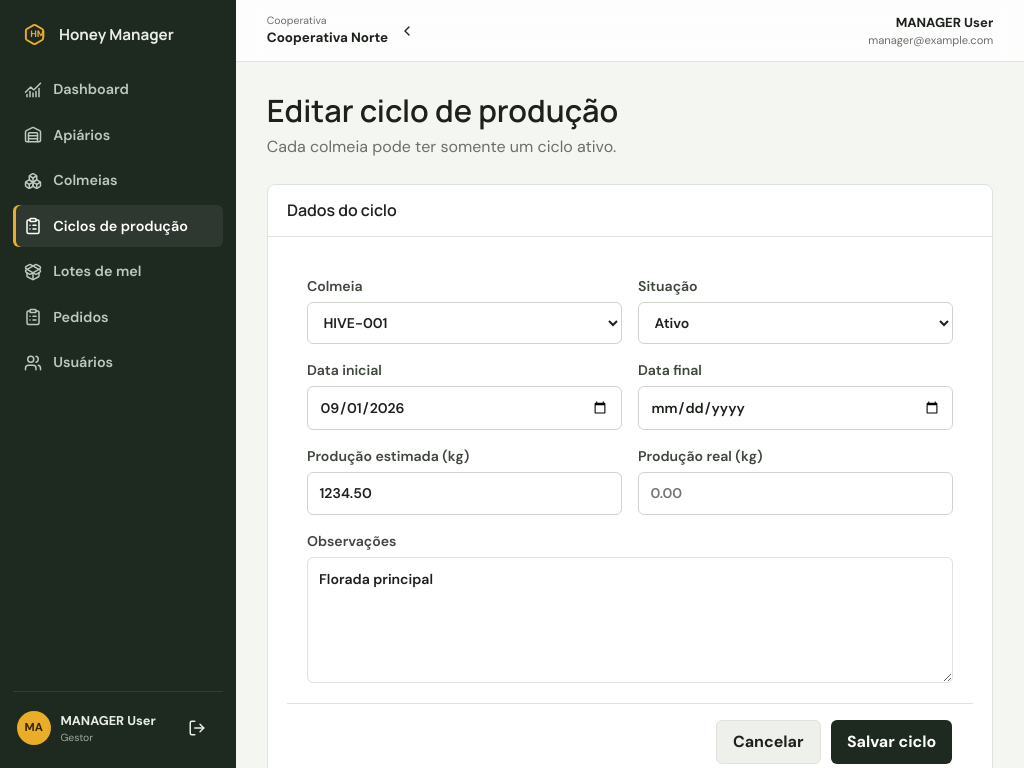
Test case: Production Cycle management › updates a completed cycle and keeps the returned detail cached
The image size is (1024, 768).
Select "Concluído" in the dropdown labelled "Situação" at (796, 323), box [638,302,953,344]
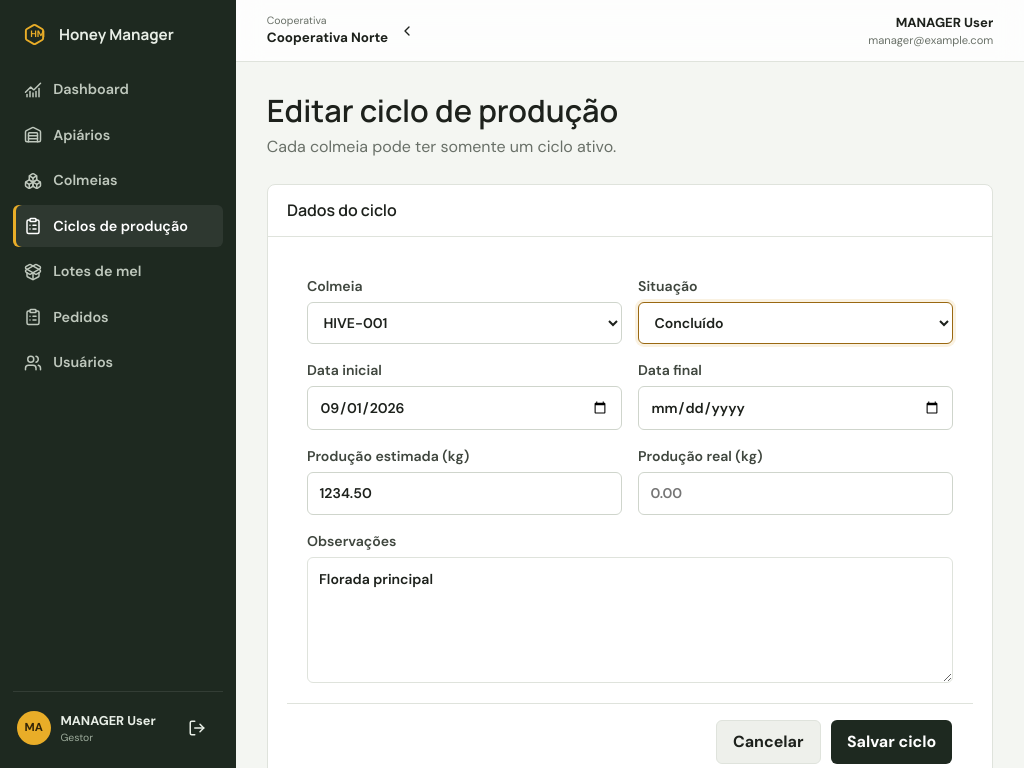
Type "2026-09-30" into the date field labelled "Data final" at (796, 408), box [638,386,953,430]
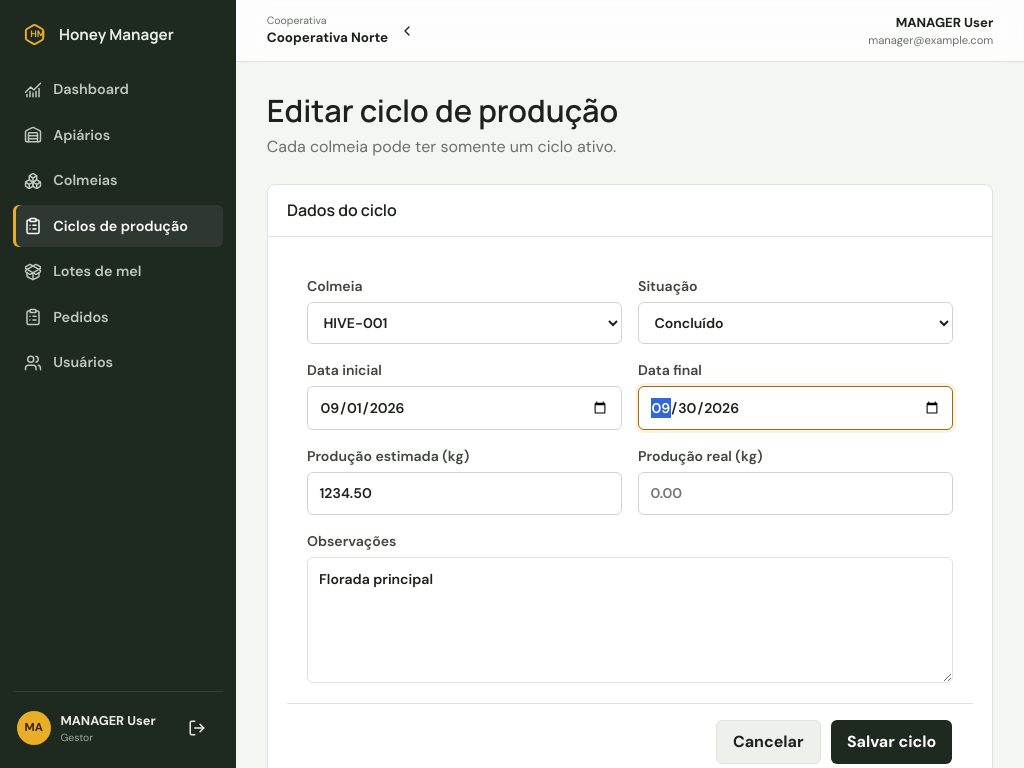
Type "1200.25" into the field labelled "Produção real (kg)" at (796, 493), box [638,472,953,514]
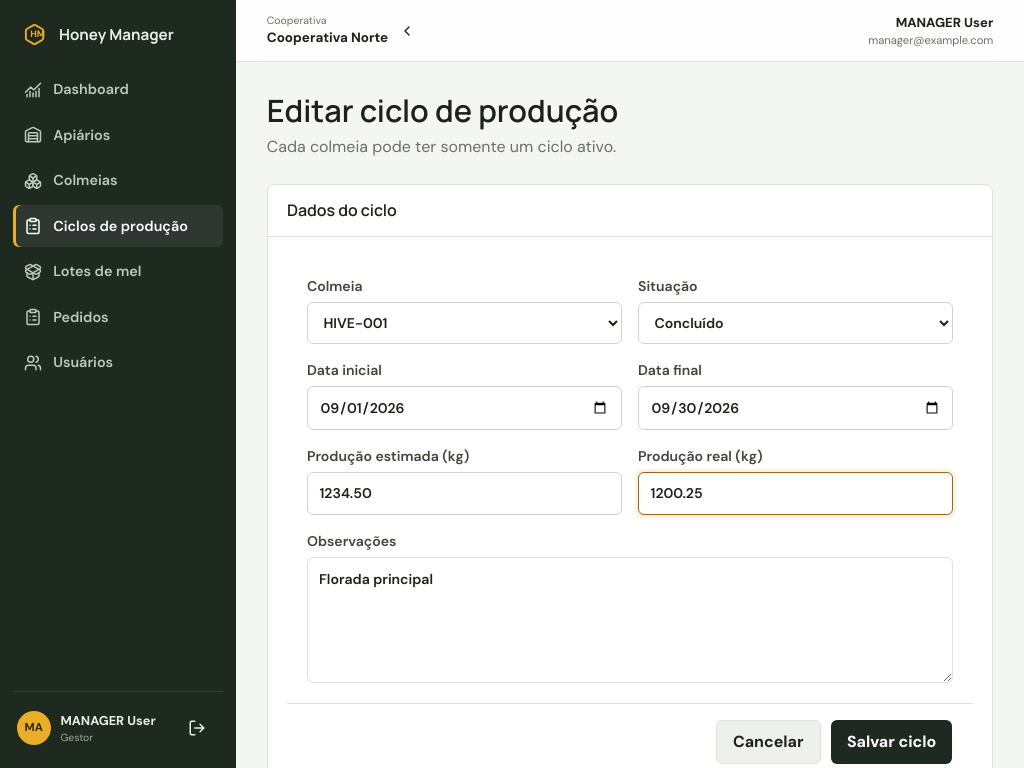
Click the button "Salvar ciclo" at (892, 742), box [831,720,952,764]
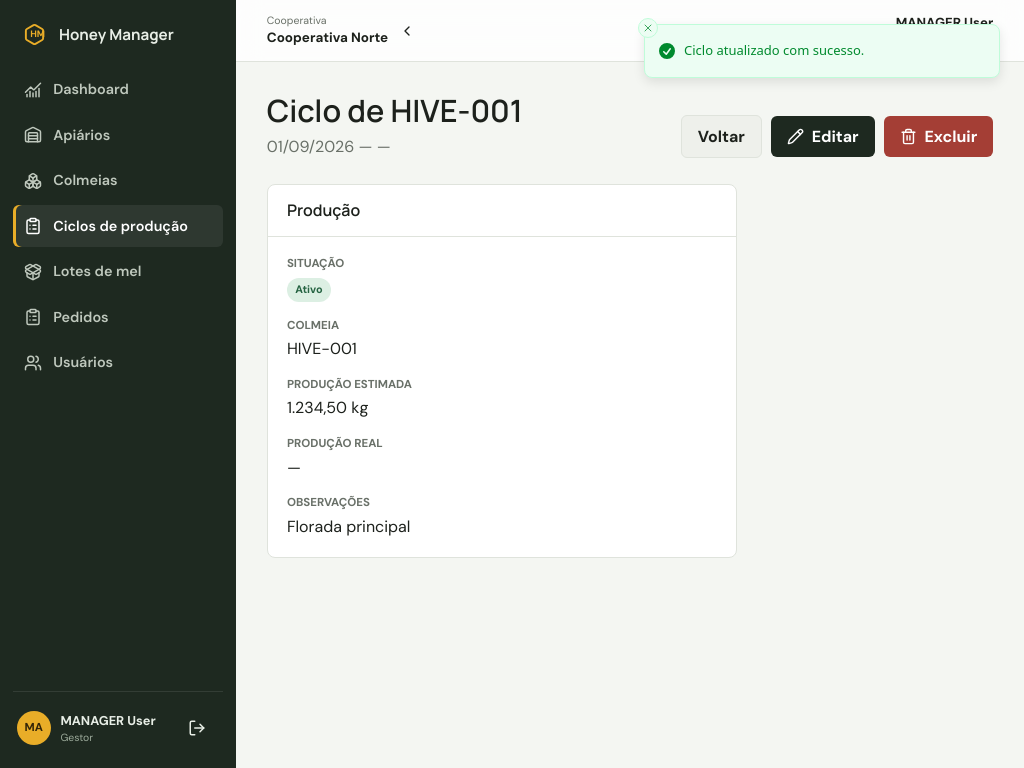
Expected: the text "1.200,25 kg" is shown, [287,456,301,478]
Expected: the text "Ciclo atualizado com sucesso." is shown, [684,41,864,60]
